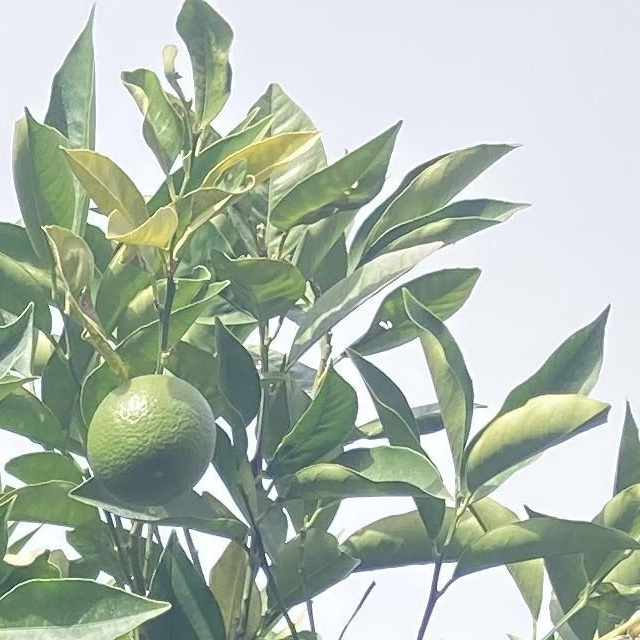orange: (61, 363, 231, 515)
